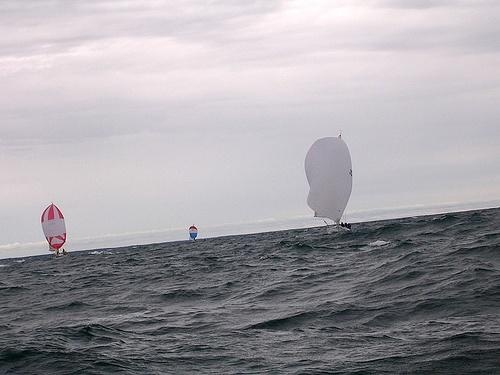boat: (305, 136, 356, 235), (40, 204, 71, 260), (186, 223, 203, 248)
